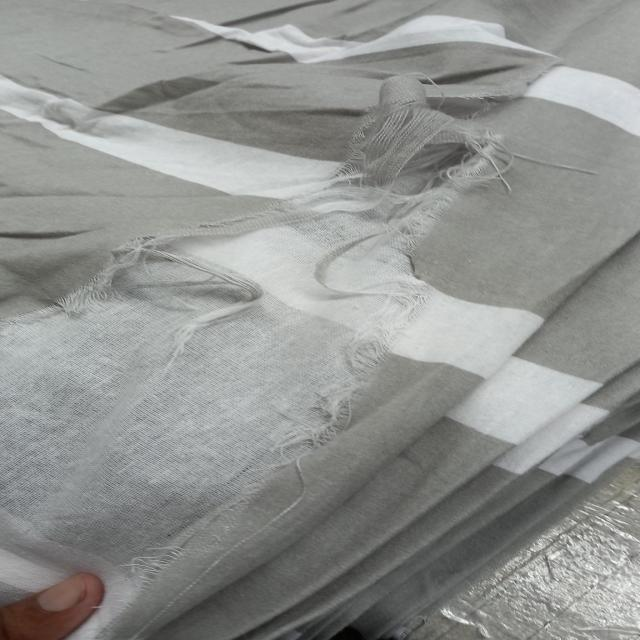cut: (266, 85, 527, 242), (57, 264, 436, 336)
